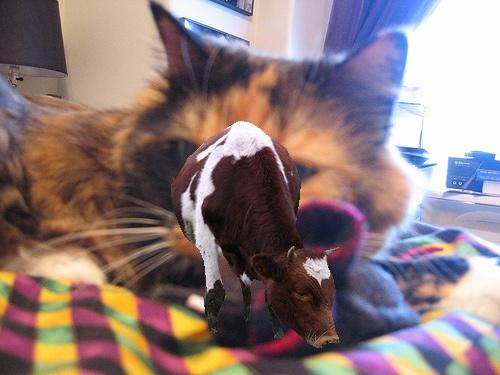tampered: (172, 122, 340, 348)
